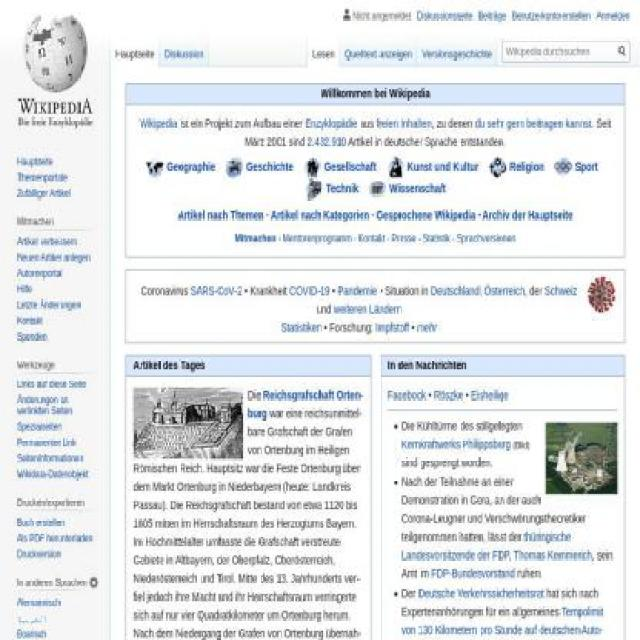button: (416, 33, 498, 67), (339, 33, 418, 67), (159, 33, 210, 67), (111, 33, 160, 67), (308, 33, 340, 67)
field: (502, 40, 630, 63), (614, 41, 629, 62)
